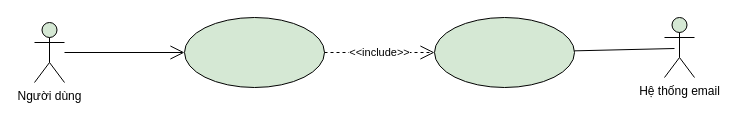
Image size: 737x121. Some labels were removed from this diagram. Here are the shapes that lost their labels. From the top down, the centre of each, then its label:
(254,52): Đặt hàng
(504,52): Xác nhận đơn hàng
